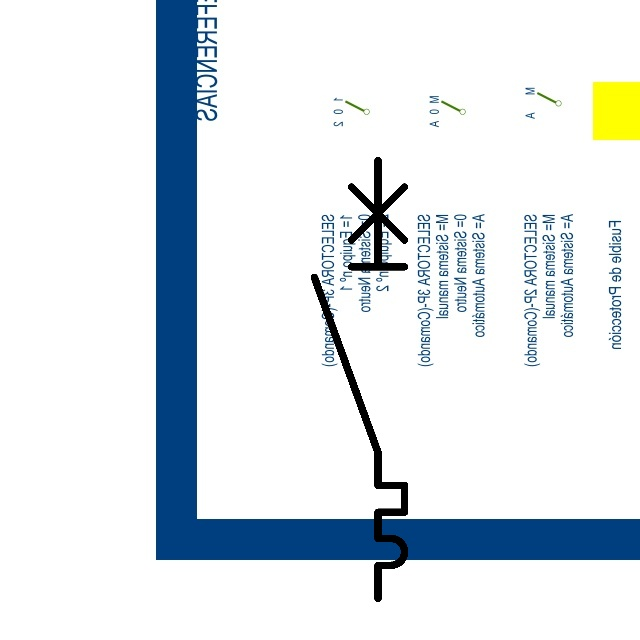interruptor_termomagnetico: (303, 149, 416, 610)
